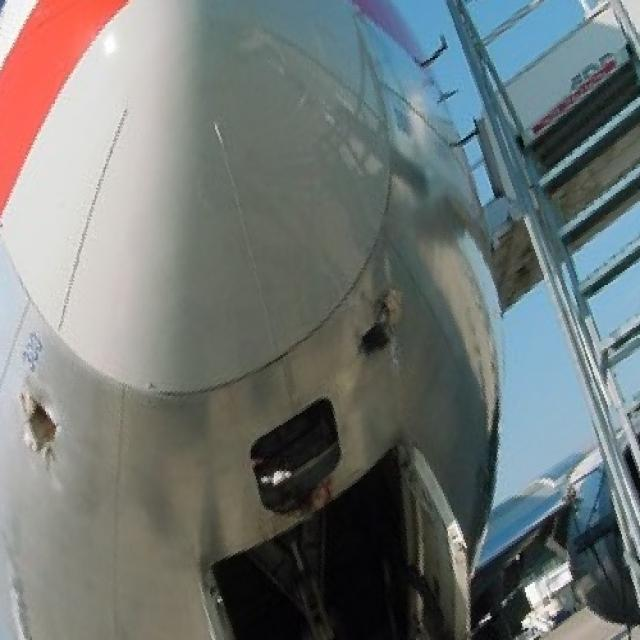dent: (14, 391, 64, 466), (356, 288, 396, 350)
